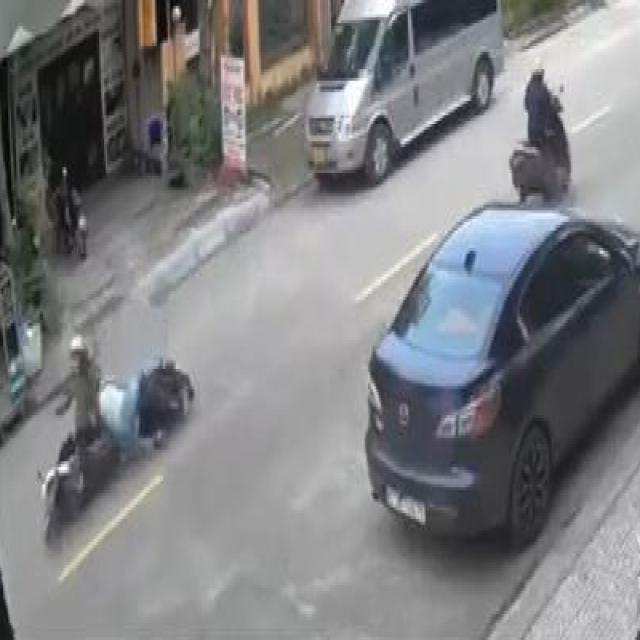accident: (38, 306, 204, 546)
non_accident: (357, 60, 640, 573)
